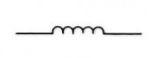inductor: (45, 19, 111, 44)
